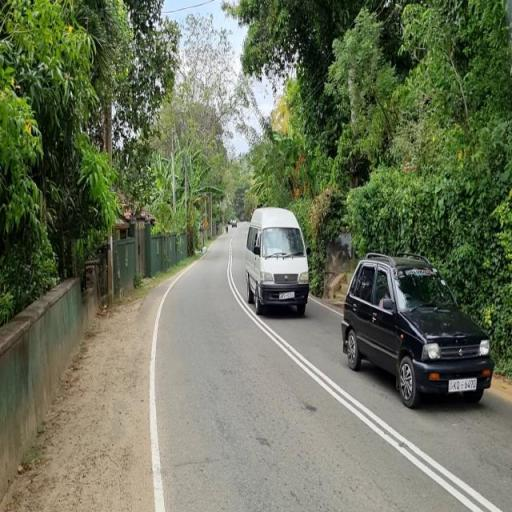double_white_line: (232, 240, 504, 512)
